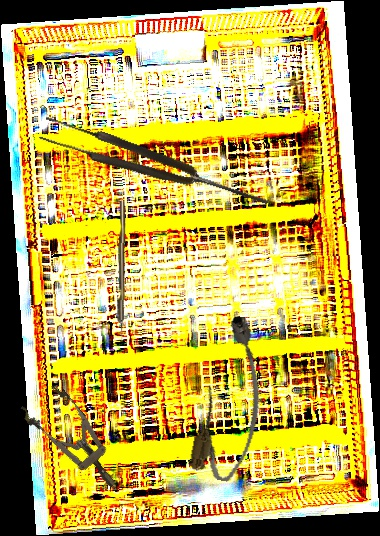Cannula: (186, 312, 280, 486)
Hook Surgical: (116, 200, 127, 343)
Speculum: (17, 379, 132, 502)
Tissue Forceps: (38, 112, 272, 219)
